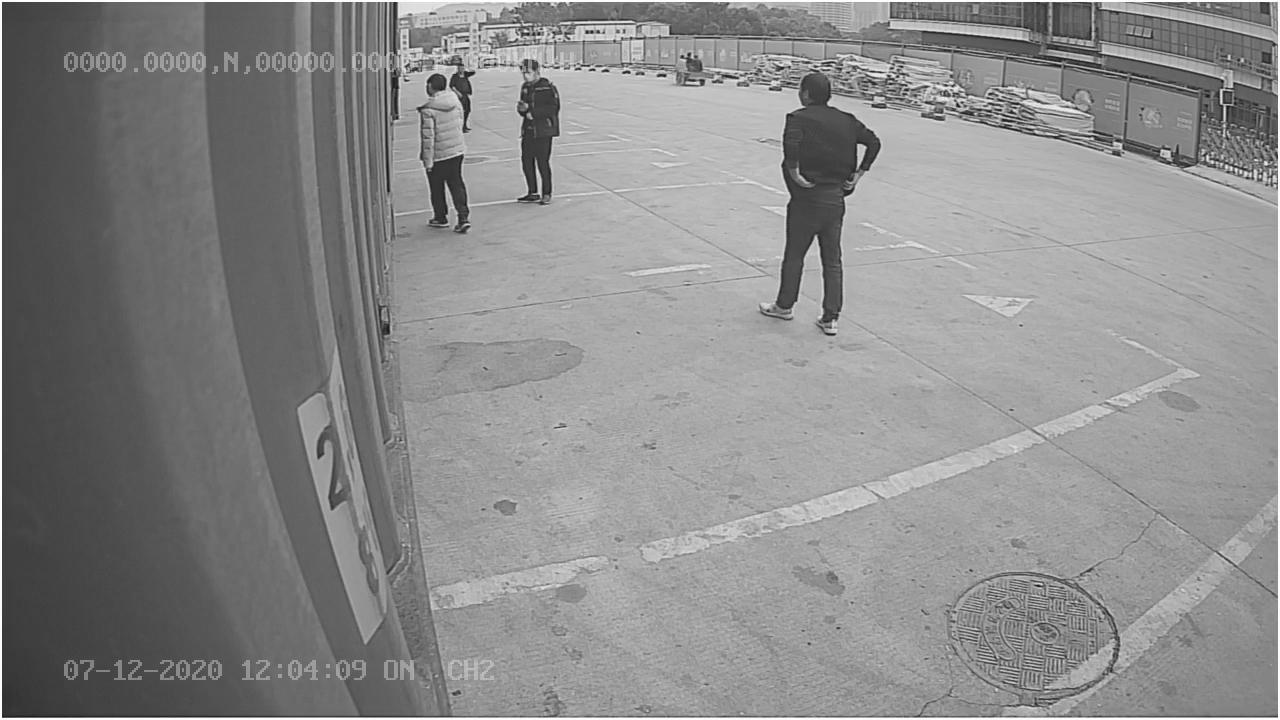person: (755, 62, 881, 339)
